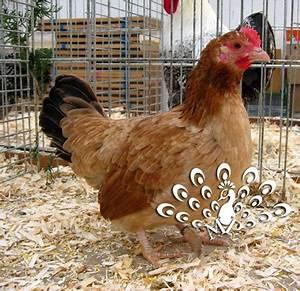hen: (37, 10, 275, 268)
